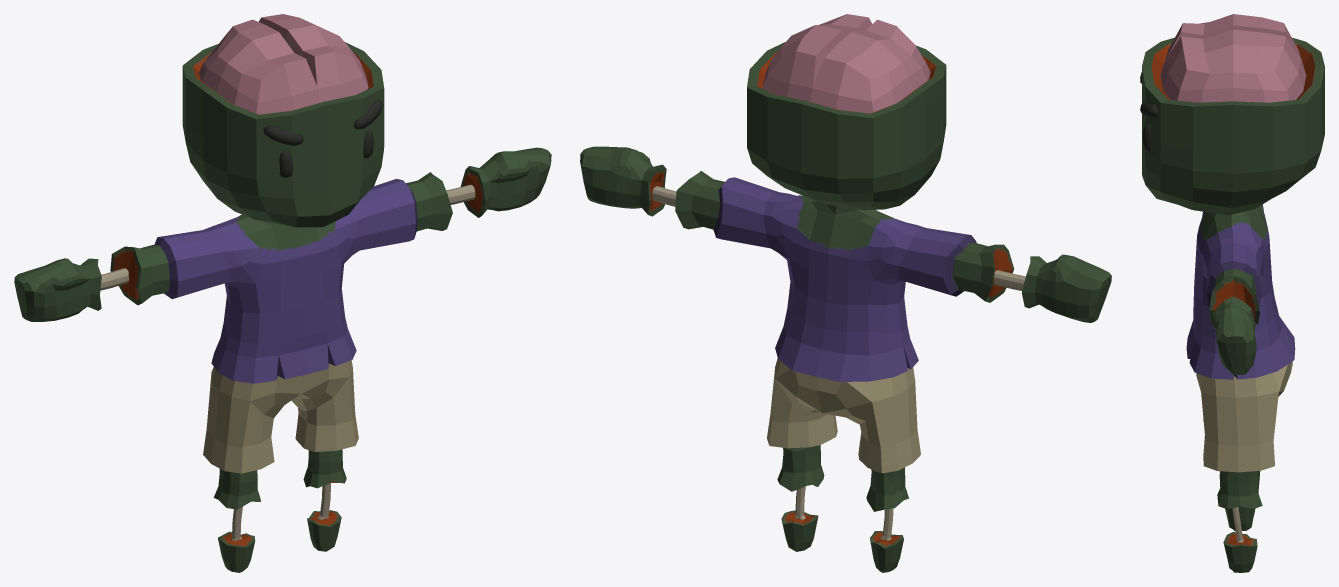
The model's file is Zombie_Male.fbx.
3 renders of one model, left to right at view 1: azimuth 30°, elevation 25°; view 2: azimuth 150°, elevation 25°; view 3: azimuth 270°, elevation 25°, orthographic.
Visible parts, largest first — view 1: Body; view 2: Body; view 3: Body.
Part boxes in pixels (box(x1,y1,x2,y2)): Body: box(14, 14, 551, 572); Body: box(580, 14, 1111, 572); Body: box(1140, 14, 1324, 572).
Bounding box in the file's own units: 324 × 311 × 99.31.
1 material, 1 textured.
